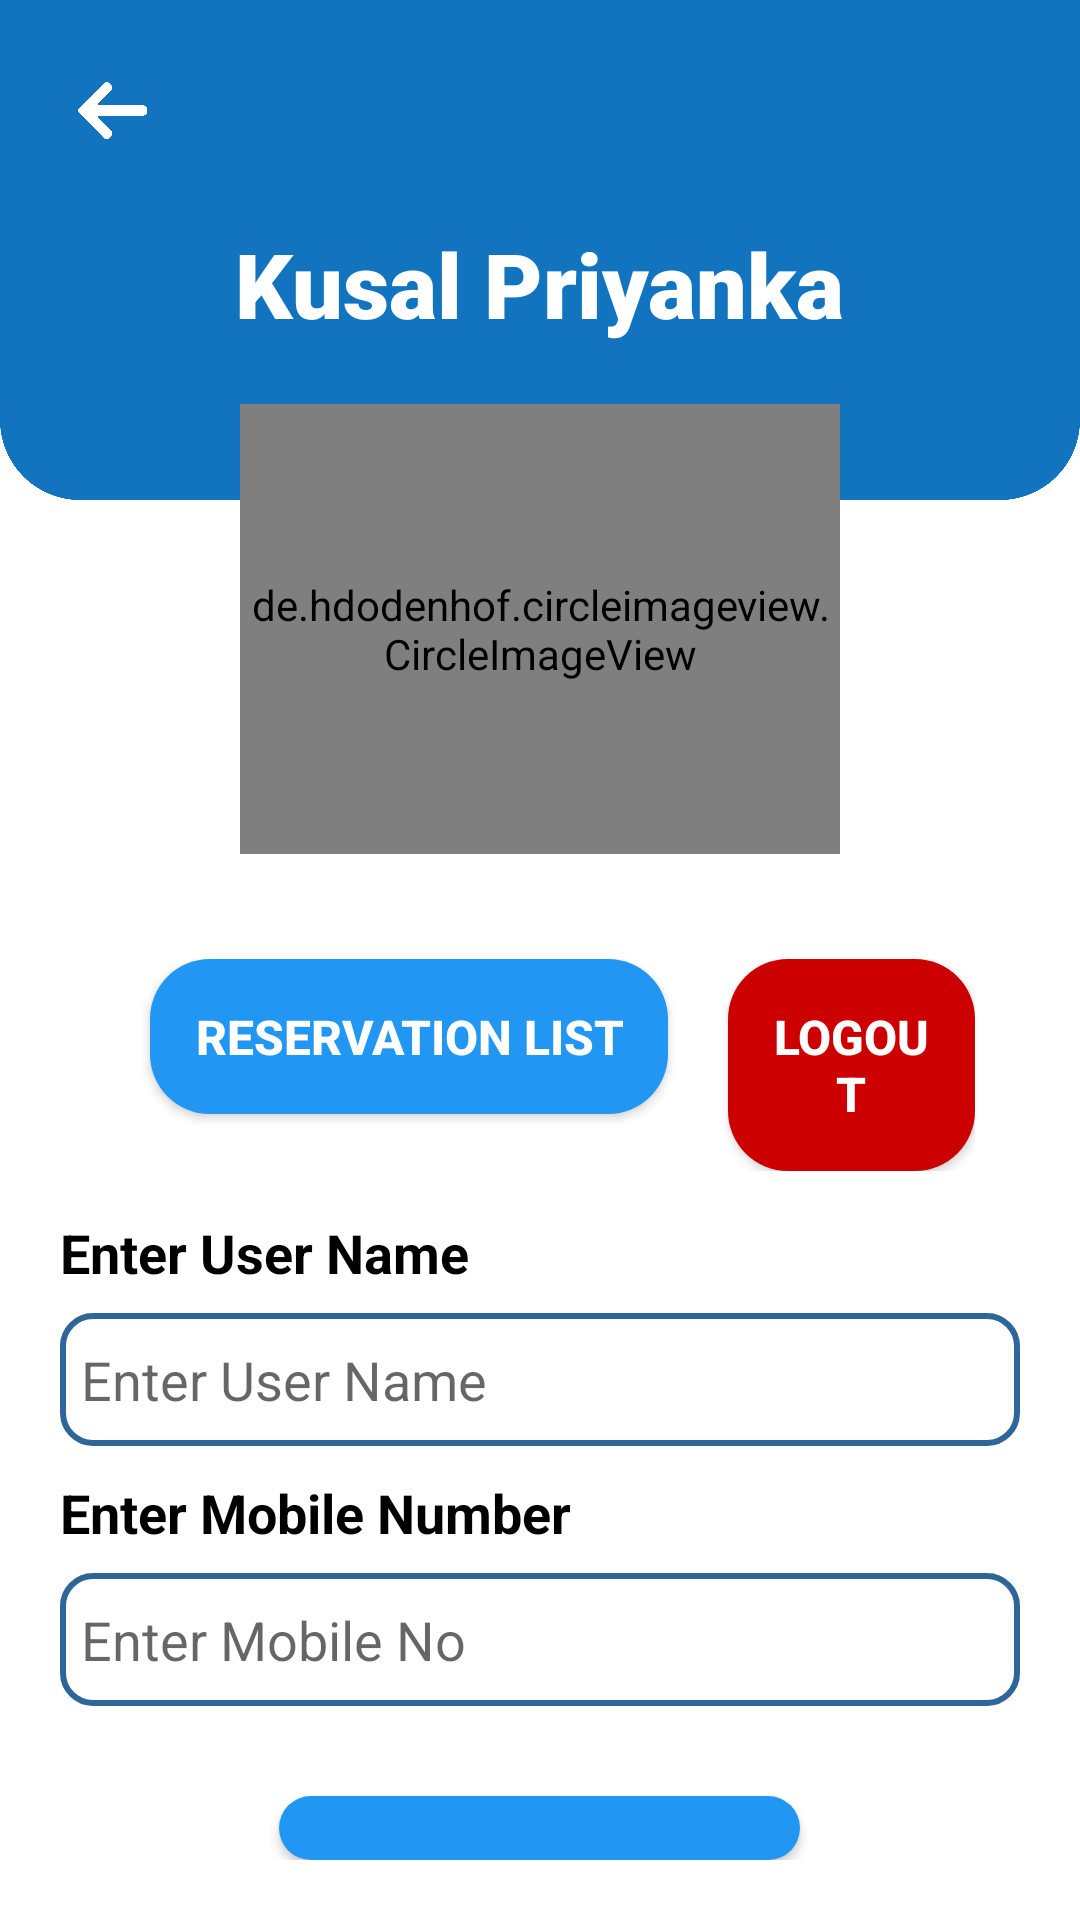

Icon click points for this 1080 × 1920 phone screenshot, format (x=x, y=y):
back: (x=112, y=110)
